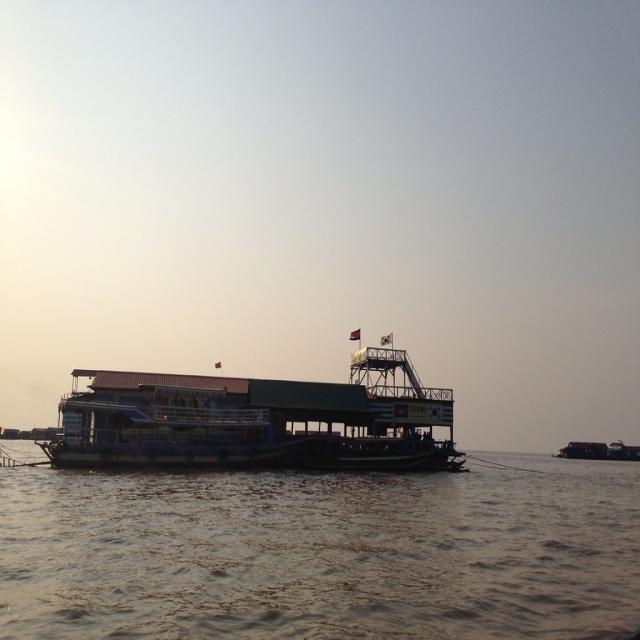boat: (40, 414, 313, 469), (338, 448, 418, 470)
